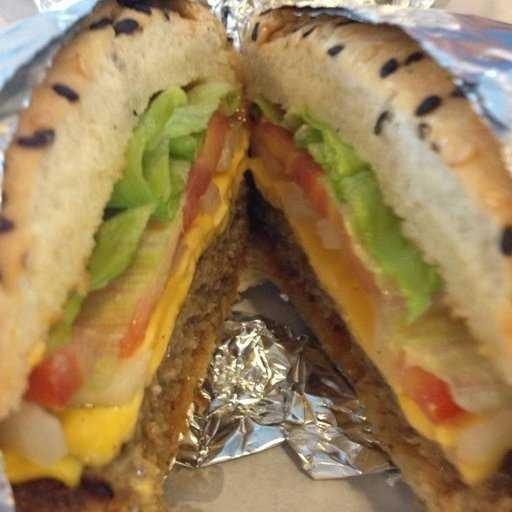hamburger: (1, 21, 489, 458)
